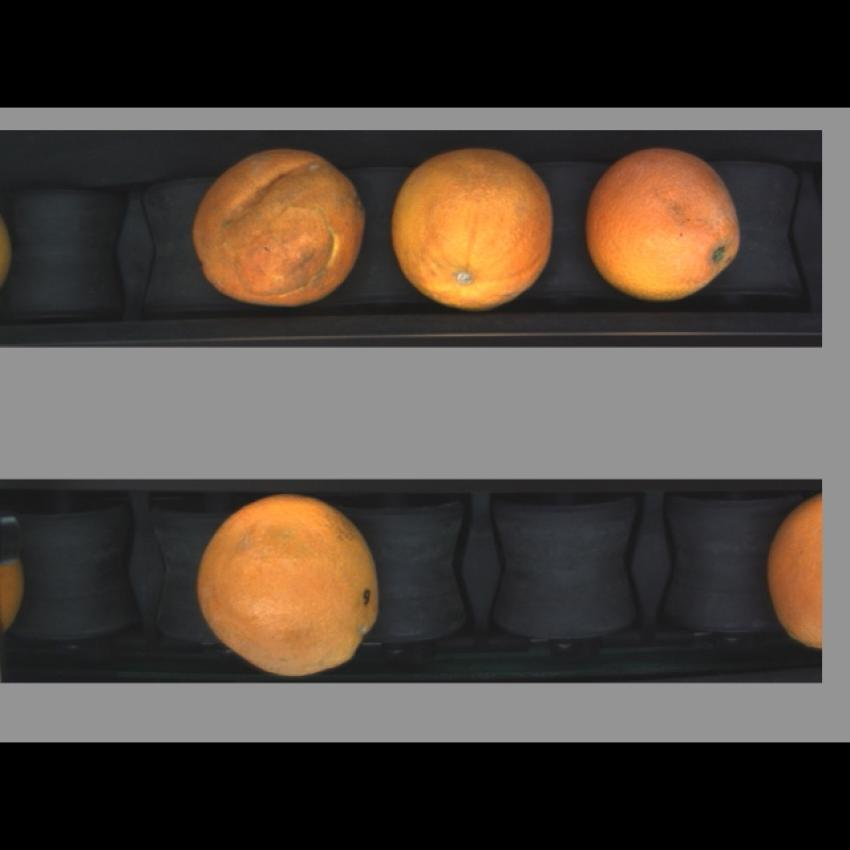Mal estado: (188, 490, 392, 678), (184, 144, 364, 304), (390, 146, 560, 312), (586, 145, 751, 296), (766, 494, 824, 654)
